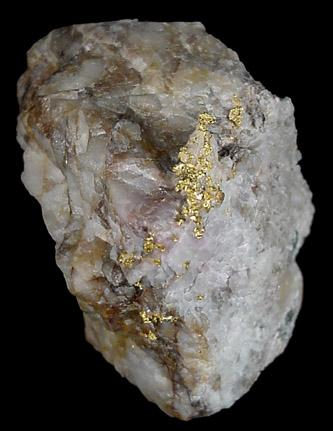gold: (173, 112, 225, 239), (118, 232, 166, 270), (139, 311, 181, 342), (228, 95, 245, 128), (164, 262, 190, 282), (152, 284, 169, 290), (134, 283, 143, 290)
